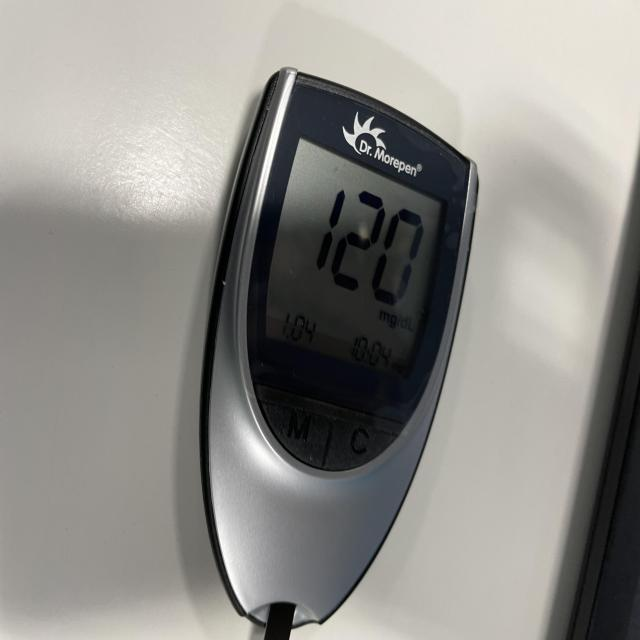gluco: (200, 69, 480, 640)
